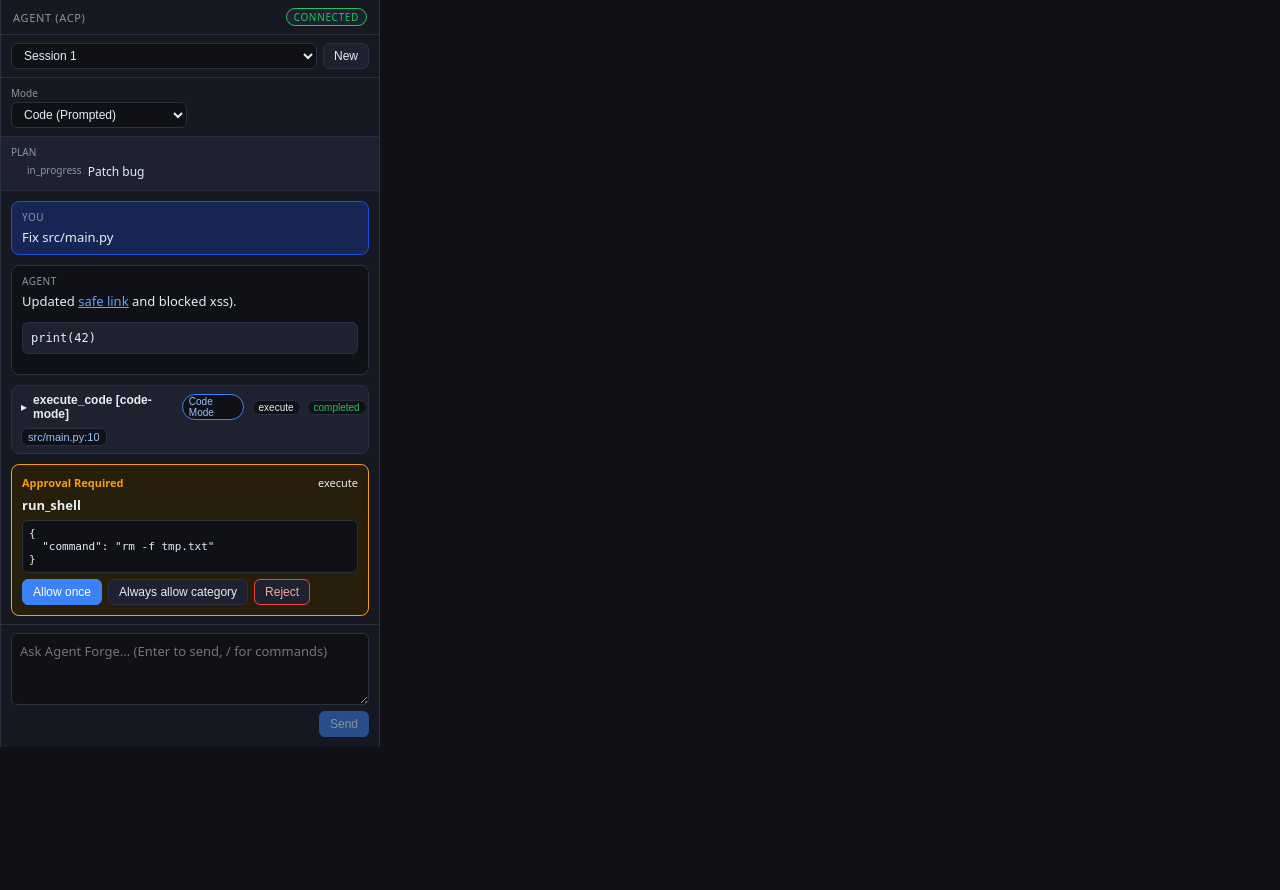
Test: AgentPanel streaming markdown, tool cards, slash commands, and approvals › renders streaming markdown safely, expands code-mode/subagent cards, autocompletes slash commands, and handles approval choices
The width and height of the screenshot is (1280, 890).
Later steps or results of the test are not shown.
Expected: the text "print(42)" is shown, [31,331,96,345]
Expected: the text "Code Mode" is shown, [182,394,244,420]
Step 1. Click the button "src/main.py:10" → [64, 437], box [21,428,106,446]
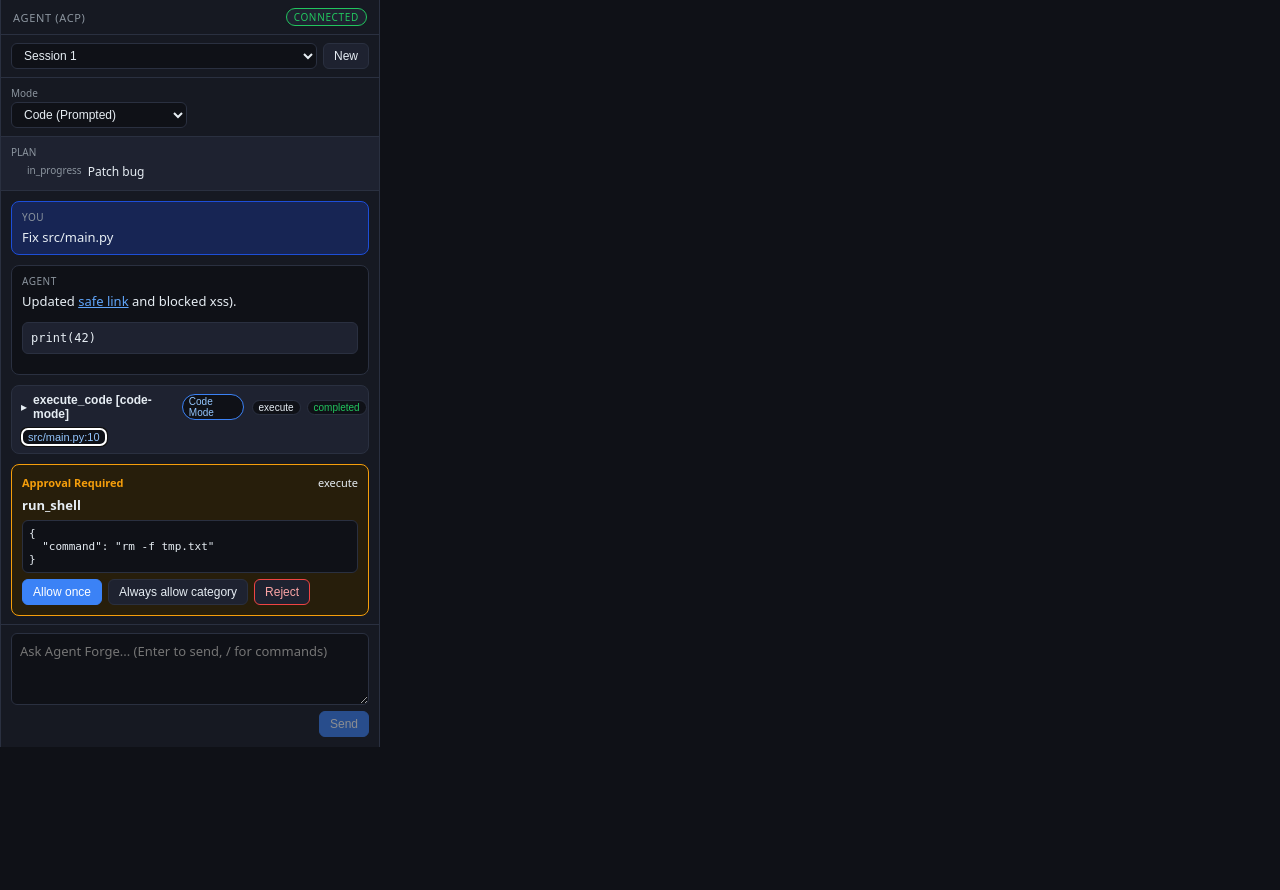
Step 2. Click the button "▸ execute_code [code-mode] Code Mode execute completed" → [190, 407], box [12,386,368,428]
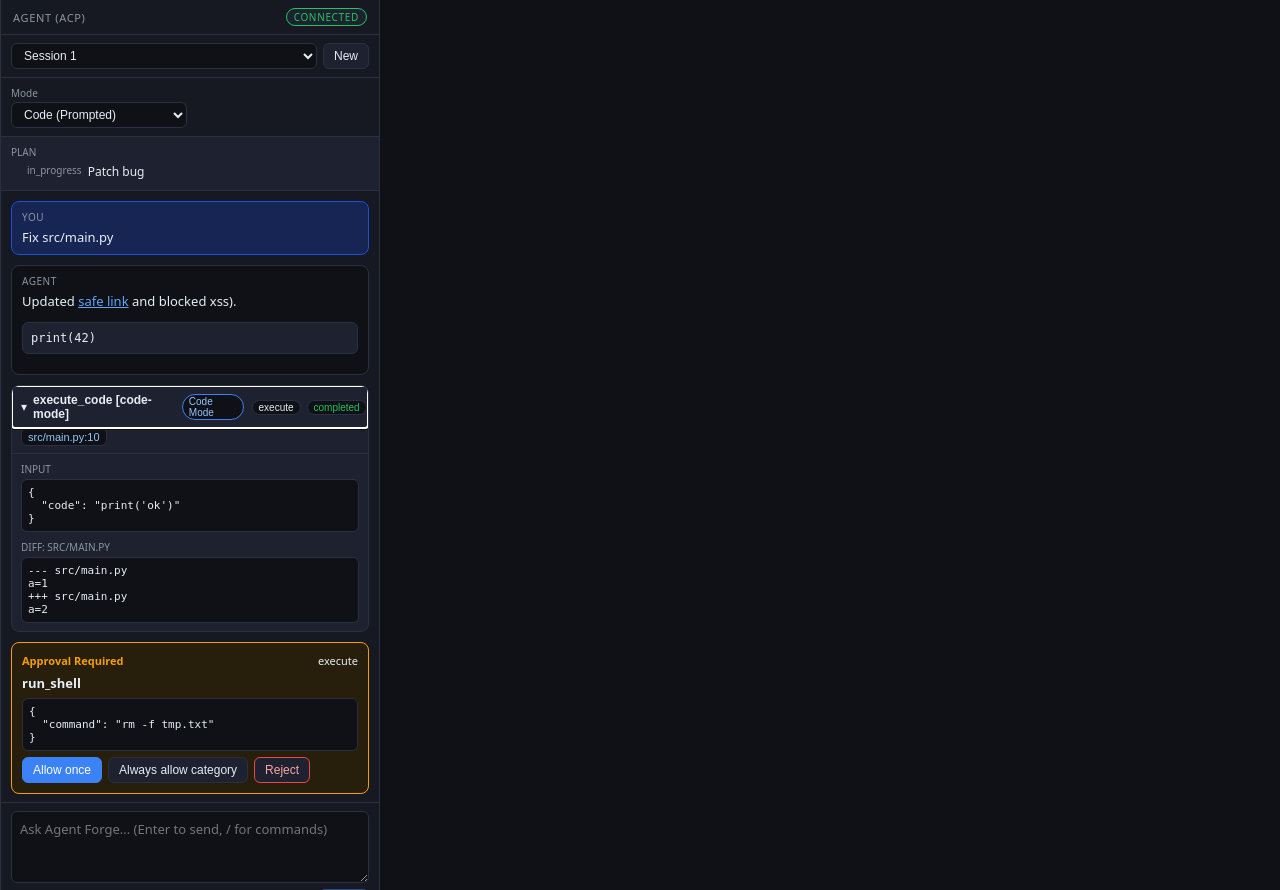
Expected: the text "Diff: src/main.py" is shown, [21,540,110,554]
# Config selector change triggers onChangeConfig
Step 3. Select "Code Mode" in the dropdown labelled "Mode" → [99, 115], box [11,102,187,128]
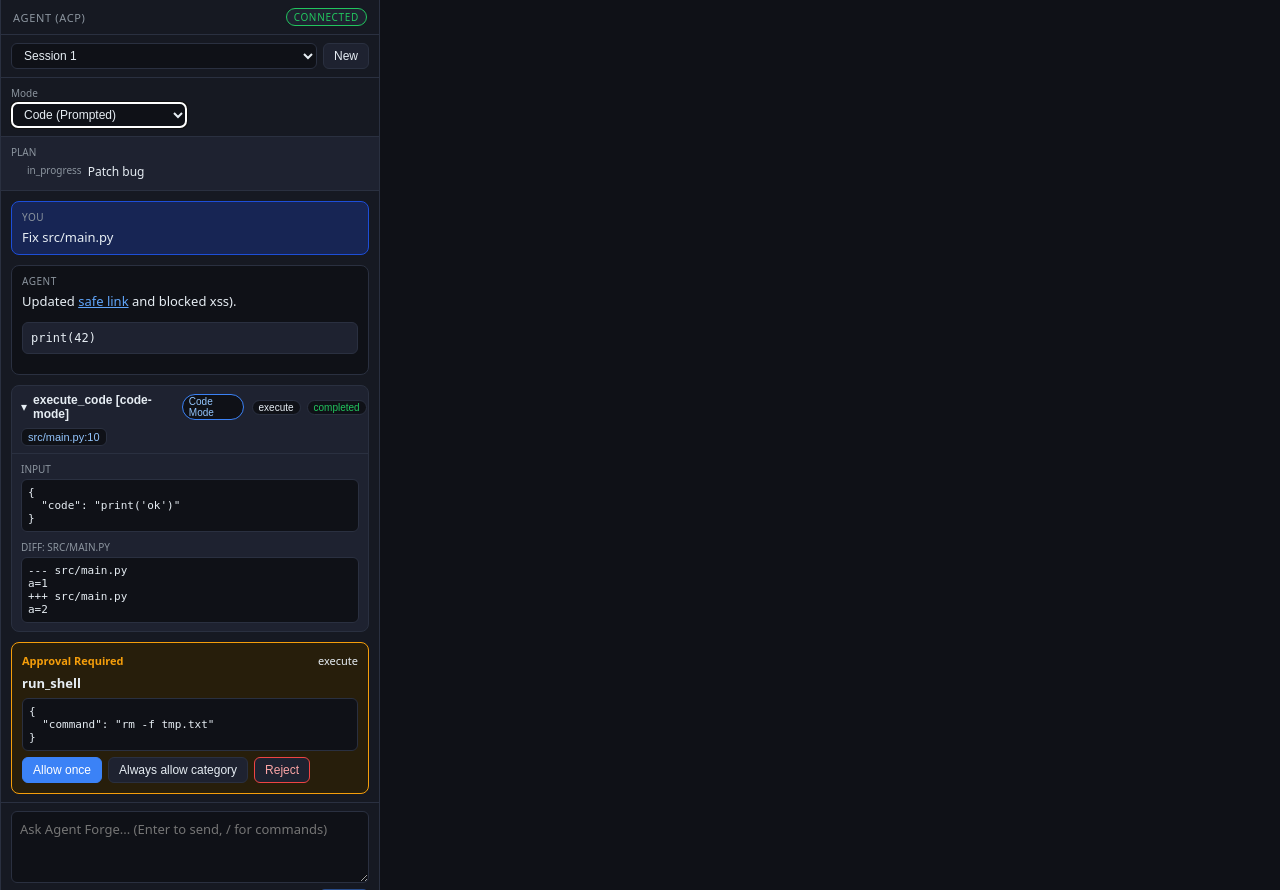
Expected: the dialog named "Tool permission request" is shown, [11,642,369,794]
Step 4. Click the button "Allow once" → [62, 770], box [22,757,102,783]
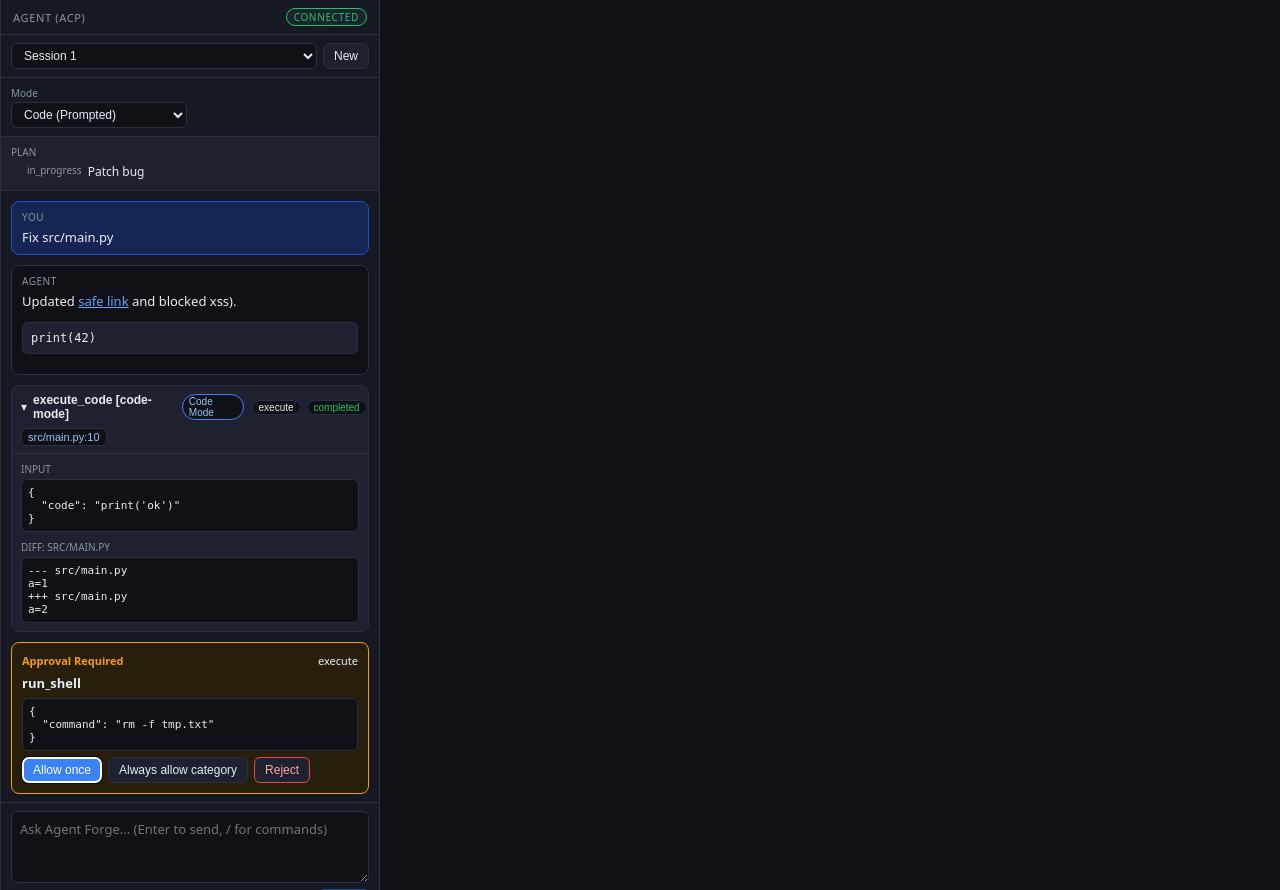
# Slash command autocomplete inserts /diff and submits on Enter
Step 5. Type "/di" into the text box named "Agent prompt" → [190, 847], box [11,811,369,883]
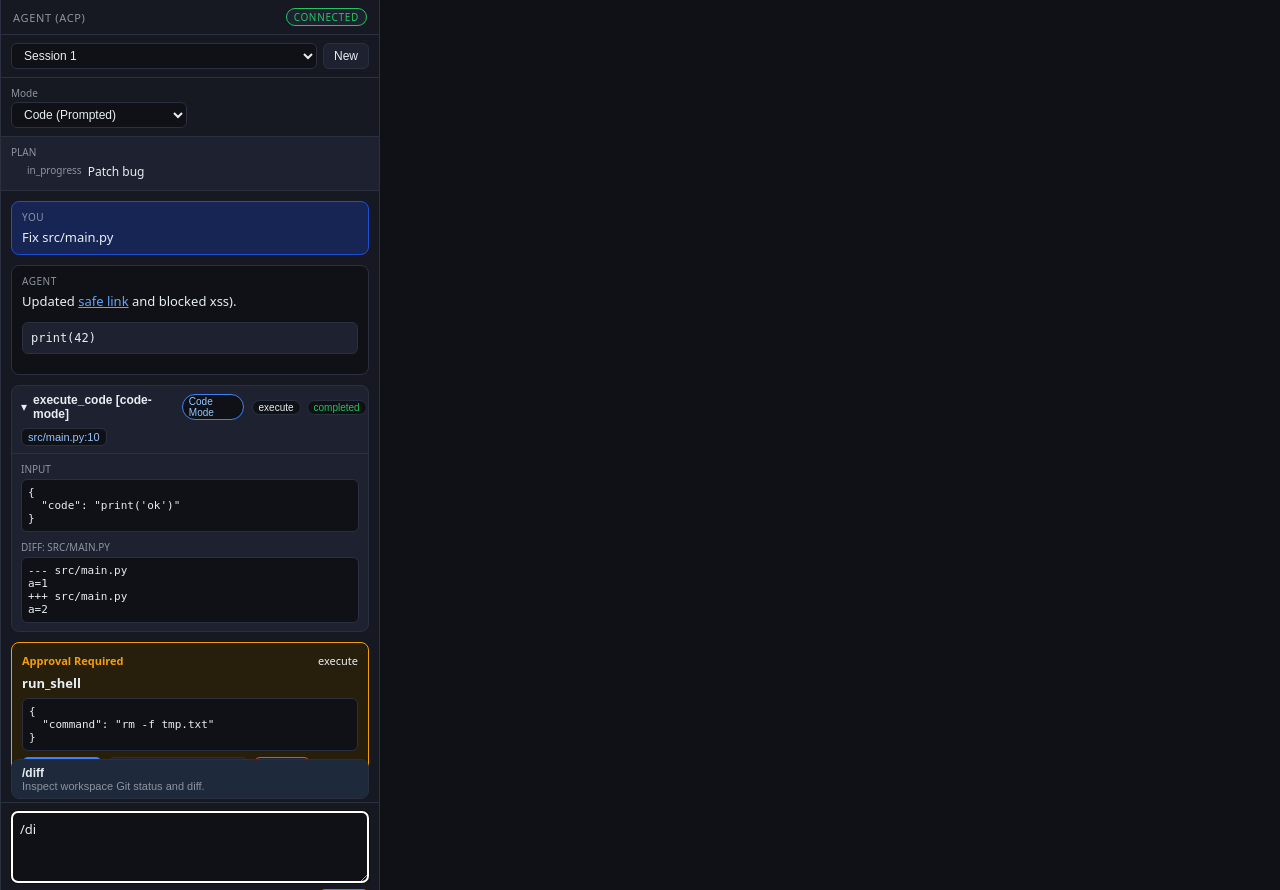
Expected: the list named "Slash commands" is shown, [11,759,369,799]
Step 6. Press Tab
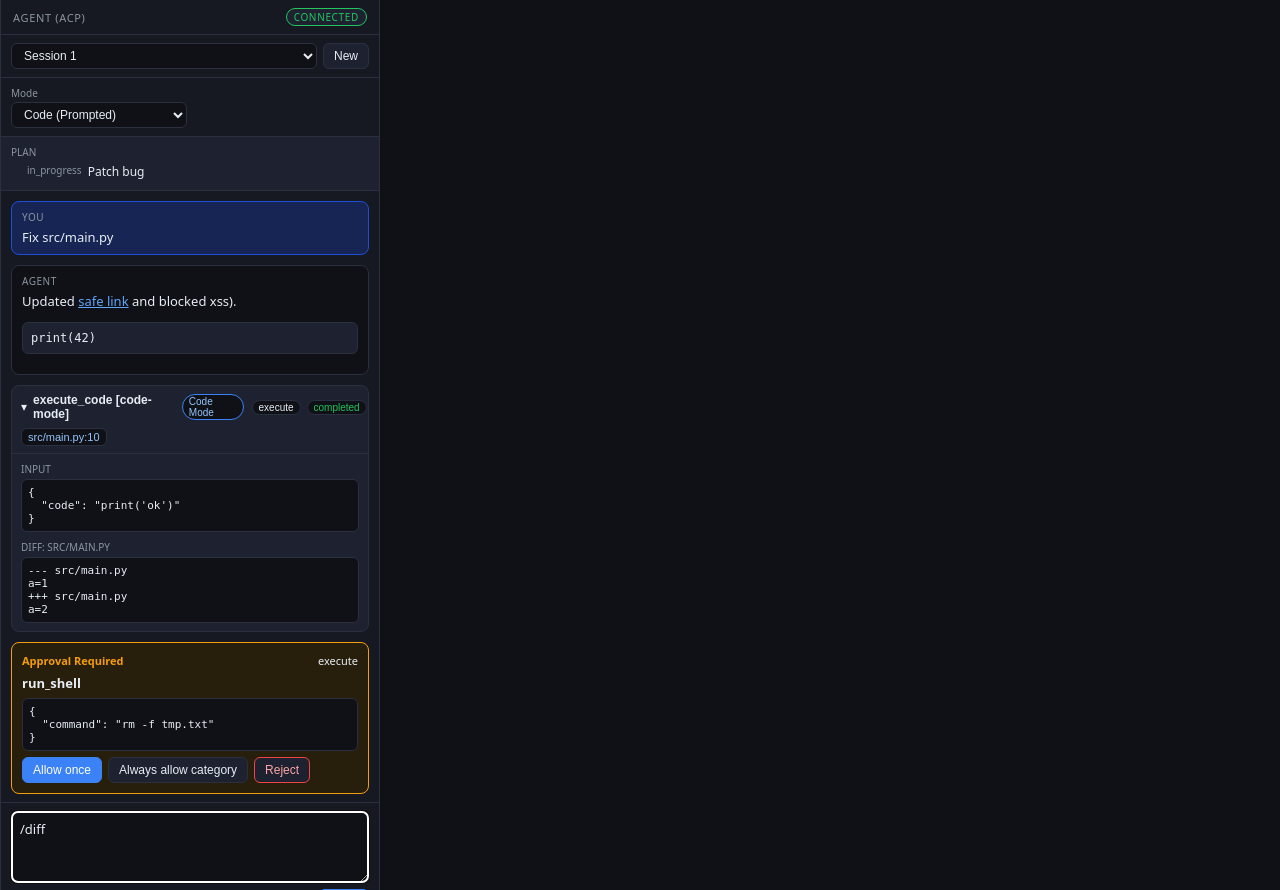
Expected: the text box named "Agent prompt" holds "/diff ", [11,811,369,883]
